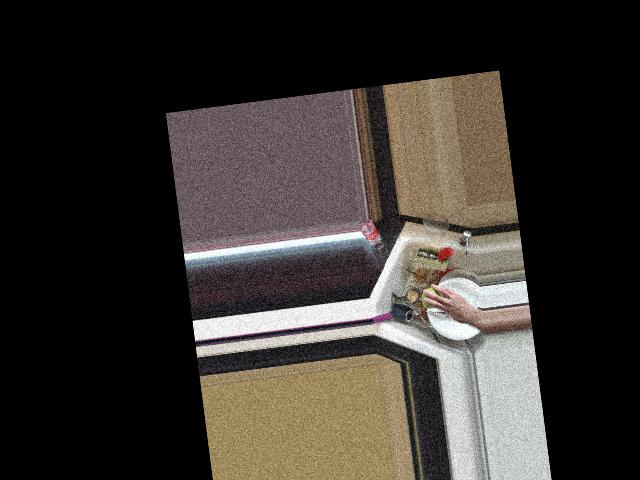apple: (420, 285, 445, 310)
